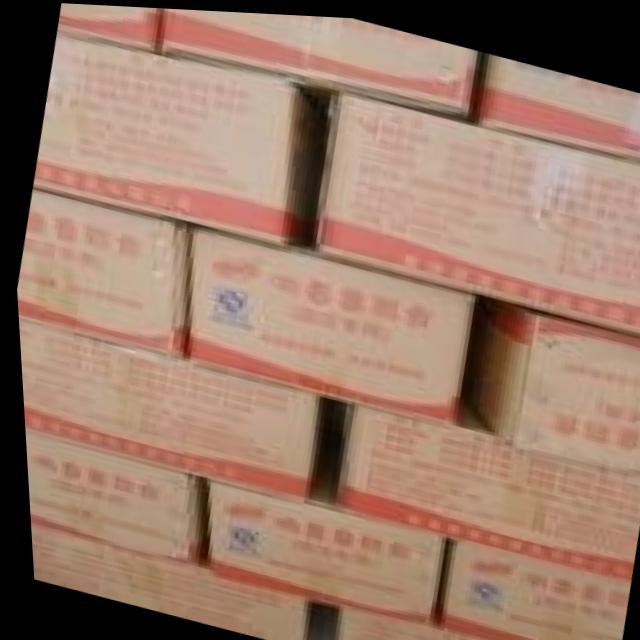box: (317, 87, 640, 325), (31, 31, 324, 244), (183, 221, 471, 420), (328, 386, 637, 569), (15, 321, 318, 495), (192, 431, 438, 619), (455, 283, 640, 468), (158, 7, 475, 114), (24, 525, 297, 640), (14, 190, 183, 357), (20, 425, 202, 562), (429, 527, 620, 640), (472, 47, 640, 152), (323, 600, 502, 640), (56, 2, 160, 51)
